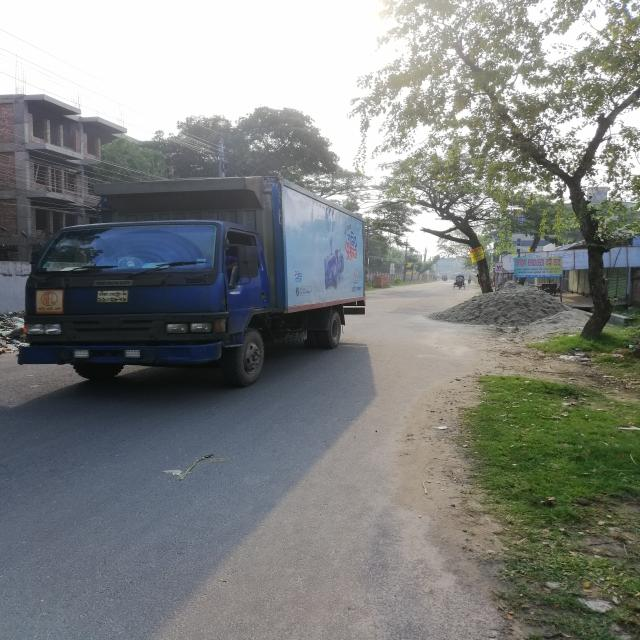Pick-up-van: (8, 174, 405, 393)
